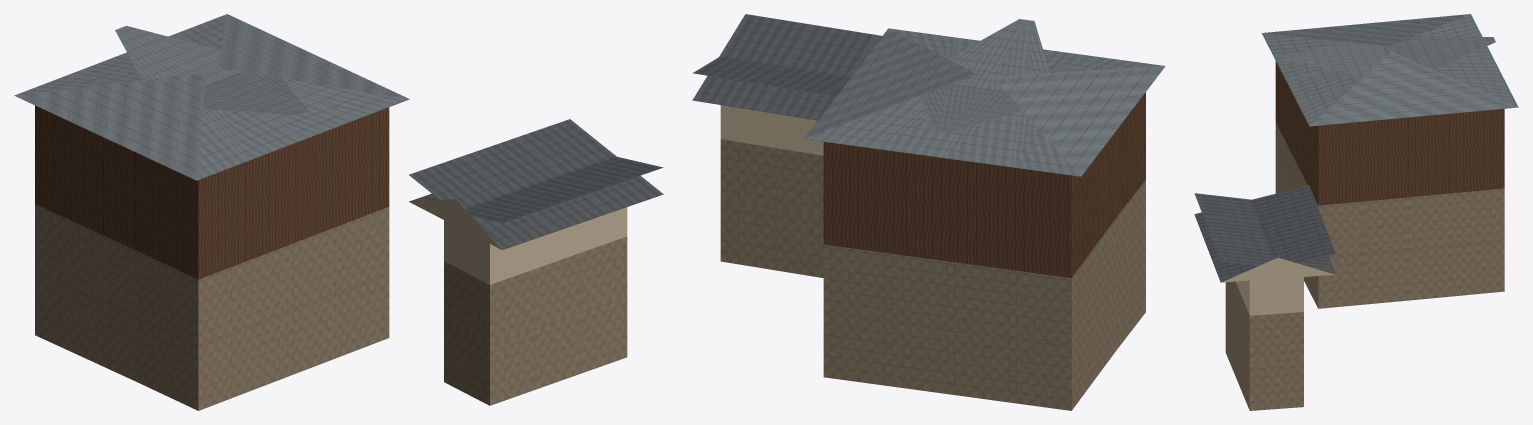
Rendered from bld_c16_28_382.gltf.
The picture shows the model from 3 angles, left to right: view 1: azimuth 30°, elevation 25°; view 2: azimuth 150°, elevation 25°; view 3: azimuth 270°, elevation 25°; orthographic projection. The views are drawn at different scales.
Visible parts, largest first — view 1: bld_c16_28_382; view 2: bld_c16_28_382; view 3: bld_c16_28_382.
Part boxes in pixels (x1,y1,x2,y2): bld_c16_28_382: (14, 14, 663, 410); bld_c16_28_382: (692, 14, 1165, 410); bld_c16_28_382: (1194, 14, 1518, 410).
Bounding box in the file's own units: 19.11 × 11.2 × 13.9.
6 materials, 6 textured.
